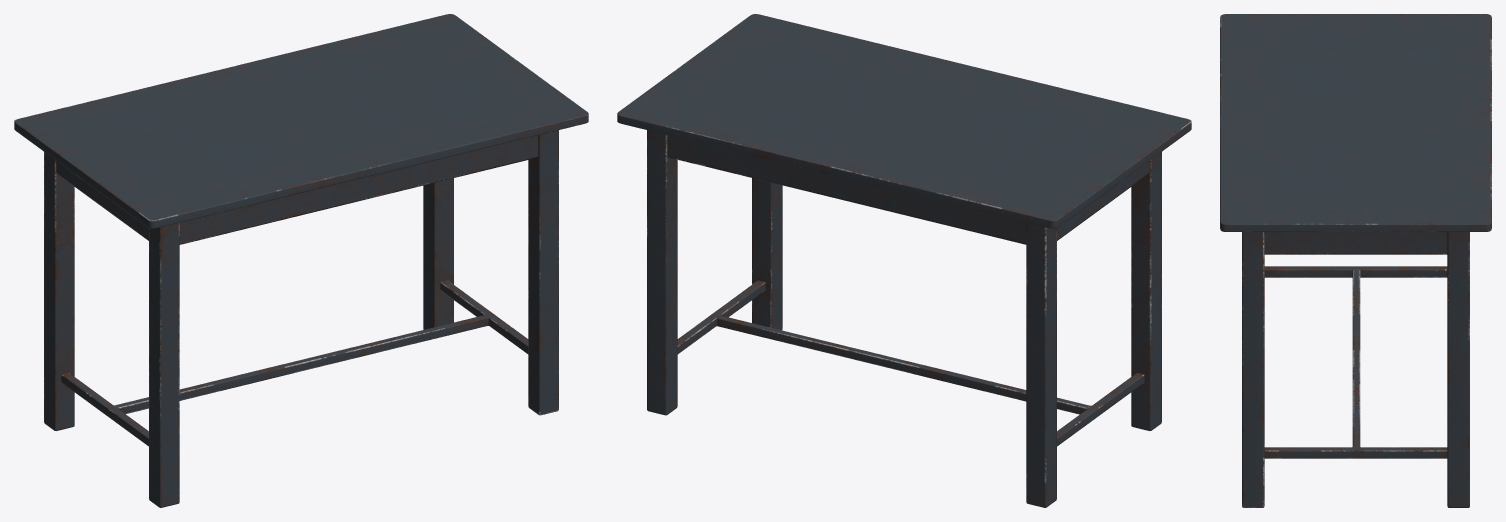
3 views of the same model, side by side, from view 1: azimuth 30°, elevation 25°; view 2: azimuth 150°, elevation 25°; view 3: azimuth 270°, elevation 25° (orthographic). The views are drawn at different scales.
Parts seen in each view (by area): view 1: metal_table; view 2: metal_table; view 3: metal_table.
Boxes of the visible parts, x1,y1,x2,y2 form: metal_table: (14,14,588,507); metal_table: (617,14,1191,507); metal_table: (1220,14,1491,507).
Size of the model in its own units: 0.55 by 0.3583 by 0.3.
1 material, 1 textured.
